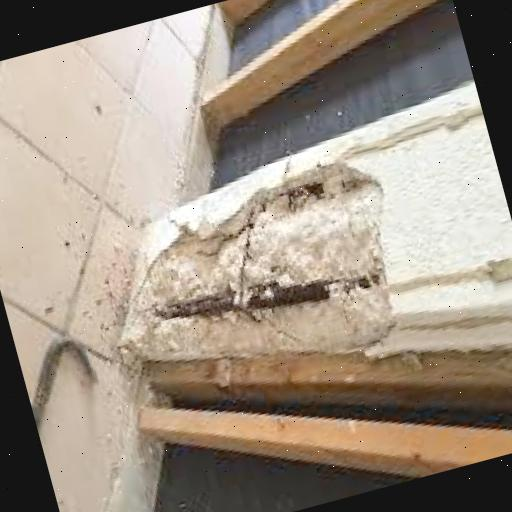spalling: (128, 163, 393, 361)
